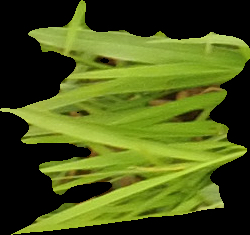grass: (1, 1, 249, 234)
